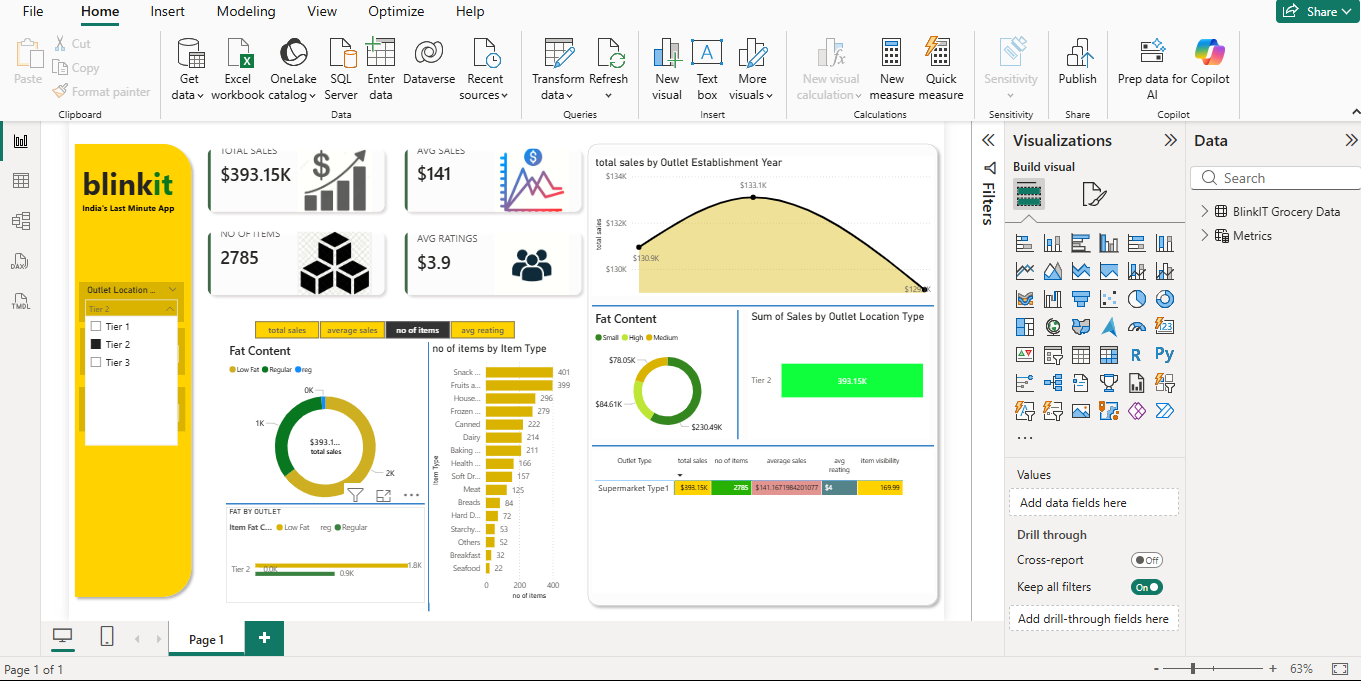

Layout of this report page (visuals, bound fields, positions):
{"tool":"powerbi","page":{"name":"Page 1","canvas":[1400,800],"ordinal":0},"visuals":[{"type":"shape","box":[0,27.8,204.9,743.3],"z":0},{"type":"textbox","box":[15.6,60.8,168.5,107.7],"z":1000},{"type":"cardVisual","fields":{"Data":["BlinkIT Grocery Data.total sales","BlinkIT Grocery Data.average sales","BlinkIT Grocery Data.no of items","BlinkIT Grocery Data.avg reating"]},"box":[204.9,27.8,632.1,269.2],"z":2000},{"type":"shape","box":[821.4,27.8,578.3,757.2],"z":3000},{"type":"donutChart","title":"Fat Content","fields":{"Y":["BlinkIT Grocery Data.no of items"],"Category":["BlinkIT Grocery Data.Item Fat Content"],"Series":["BlinkIT Grocery Data.Item Fat Content"]},"box":[251.8,354.3,317.8,283.1],"z":4000},{"type":"slicer","fields":{"Values":["Metrics.Metrics"]},"box":[272.7,314.3,465.4,39.9],"z":5000},{"type":"cardVisual","fields":{"Data":["BlinkIT Grocery Data.total sales"]},"box":[368.2,493.2,86.8,53.8],"z":6000},{"type":"clusteredBarChart","title":"FAT BY OUTLET","fields":{"Y":["BlinkIT Grocery Data.no of items"],"Category":["BlinkIT Grocery Data.Outlet Location Type"],"Series":["BlinkIT Grocery Data.Item Fat Content"]},"box":[251.8,618.2,317.8,152.8],"z":7000},{"type":"shape","box":[251.8,606.1,317.8,12.2],"z":8000},{"type":"shape","box":[569.6,354.3,12.2,430.7],"z":9000},{"type":"lineChart","fields":{"Y":["BlinkIT Grocery Data.total sales"],"Category":["BlinkIT Grocery Data.Outlet Establishment Year"]},"box":[837.1,55.6,547,224],"z":10000},{"type":"shape","box":[837.1,290,547,12.2],"z":11000},{"type":"donutChart","title":"Fat Content","fields":{"Y":["BlinkIT Grocery Data.total sales"],"Category":["BlinkIT Grocery Data.Outlet Size"]},"box":[837.1,302.2,241.4,206.7],"z":12000},{"type":"shape","box":[837.1,514,547,12.2],"z":13000},{"type":"shape","box":[1062.8,302.2,15.6,206.7],"z":14000},{"type":"pivotTable","fields":{"Rows":["BlinkIT Grocery Data.Outlet Type"],"Values":["BlinkIT Grocery Data.total sales","BlinkIT Grocery Data.no of items","BlinkIT Grocery Data.average sales","BlinkIT Grocery Data.avg reating","Sum(BlinkIT Grocery Data.Item Visibility)"]},"box":[837.1,526.2,547,227.5],"z":15000},{"type":"barChart","fields":{"Y":["BlinkIT Grocery Data.no of items"],"Category":["BlinkIT Grocery Data.Item Type"]},"box":[576.6,354.3,244.9,416.8],"z":16000},{"type":"funnel","fields":{"Y":["Sum(BlinkIT Grocery Data.Sales)"],"Category":["BlinkIT Grocery Data.Outlet Location Type"]},"box":[1087.1,302.2,290,206.7],"z":17000},{"type":"slicer","fields":{"Values":["BlinkIT Grocery Data.Outlet Location Type"]},"box":[15.6,257,168.5,64.3],"z":18000},{"type":"slicer","fields":{"Values":["BlinkIT Grocery Data.Outlet Size"]},"box":[17.4,331.7,168.5,74.7],"z":19000},{"type":"slicer","fields":{"Values":["BlinkIT Grocery Data.Item Type"]},"box":[15.6,425.5,170.2,71.2],"z":20000}]}

Visuals, with their boxes on the page's 1400x800 design canvas (x1, y1, x2, y2). These are canvas units, not pixel positions in the 1361x681 screenshot, which may show the page scaled, cropped or inside an application window:
shape: <bbox>0, 28, 205, 771</bbox>
textbox: <bbox>16, 61, 184, 168</bbox>
cardVisual - BlinkIT Grocery Data.total sales x BlinkIT Grocery Data.average sales: <bbox>205, 28, 837, 297</bbox>
shape: <bbox>821, 28, 1400, 785</bbox>
"Fat Content" donutChart: <bbox>252, 354, 570, 637</bbox>
slicer - Metrics.Metrics: <bbox>273, 314, 738, 354</bbox>
cardVisual - BlinkIT Grocery Data.total sales: <bbox>368, 493, 455, 547</bbox>
"FAT BY OUTLET" clusteredBarChart: <bbox>252, 618, 570, 771</bbox>
shape: <bbox>252, 606, 570, 618</bbox>
shape: <bbox>570, 354, 582, 785</bbox>
lineChart - BlinkIT Grocery Data.total sales x BlinkIT Grocery Data.Outlet Establishment Year: <bbox>837, 56, 1384, 280</bbox>
shape: <bbox>837, 290, 1384, 302</bbox>
"Fat Content" donutChart: <bbox>837, 302, 1078, 509</bbox>
shape: <bbox>837, 514, 1384, 526</bbox>
shape: <bbox>1063, 302, 1078, 509</bbox>
pivotTable - BlinkIT Grocery Data.Outlet Type x BlinkIT Grocery Data.total sales: <bbox>837, 526, 1384, 754</bbox>
barChart - BlinkIT Grocery Data.no of items x BlinkIT Grocery Data.Item Type: <bbox>577, 354, 822, 771</bbox>
funnel - Sum(BlinkIT Grocery Data.Sales) x BlinkIT Grocery Data.Outlet Location Type: <bbox>1087, 302, 1377, 509</bbox>
slicer - BlinkIT Grocery Data.Outlet Location Type: <bbox>16, 257, 184, 321</bbox>
slicer - BlinkIT Grocery Data.Outlet Size: <bbox>17, 332, 186, 406</bbox>
slicer - BlinkIT Grocery Data.Item Type: <bbox>16, 426, 186, 497</bbox>
